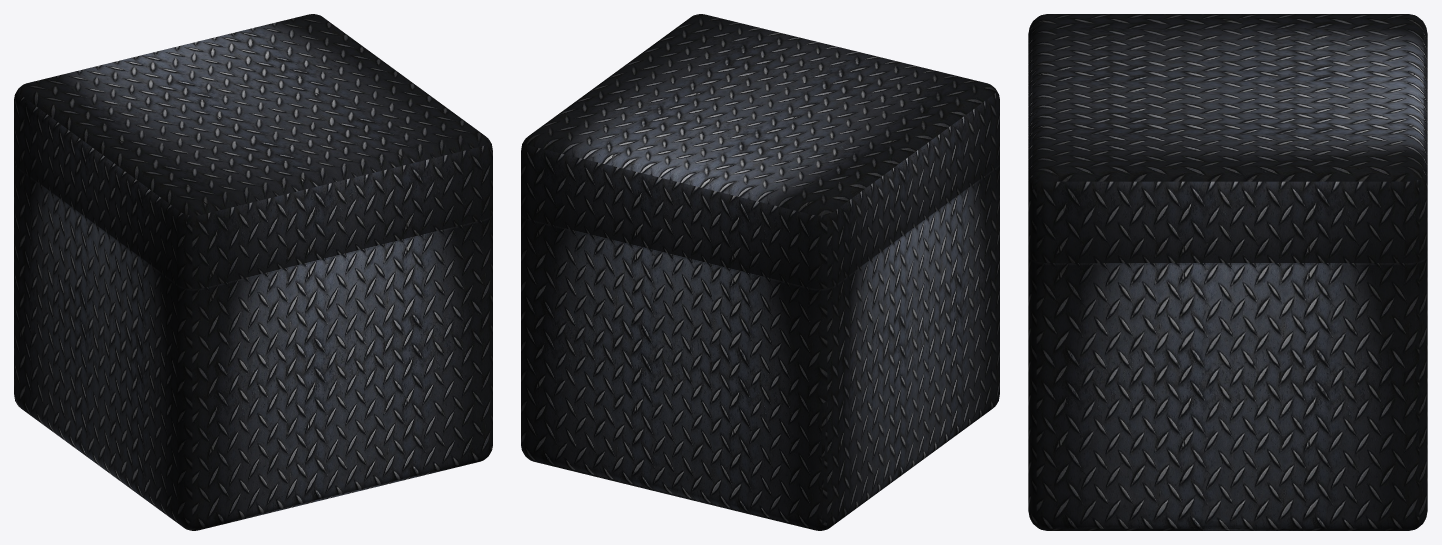
Rendered from kubs1anim2.fbx.
The picture shows the model from 3 angles, left to right: view 1: azimuth 30°, elevation 25°; view 2: azimuth 150°, elevation 25°; view 3: azimuth 270°, elevation 25°; orthographic projection. The views are drawn at different scales.
Visible parts, largest first — view 1: Pieces_25, Pieces_11, Pieces_24, Pieces_8, Pieces_12, Pieces_19, Pieces_6, Pieces_23, Pieces_18, Pieces_20, Pieces_10, Pieces_9 (+6 smaller); view 2: Pieces_16, Pieces_19, Pieces_20, Pieces_17, Pieces_6, Pieces_25, Pieces_18, Pieces_23, Pieces_3, Pieces_24, Pieces_12, Pieces_21 (+6 smaller); view 3: Pieces_6, Pieces_14, Pieces_8, Pieces_19, Pieces_13, Pieces_7, Pieces_24, Pieces_15, Pieces_5, Pieces_16, Pieces_11, Pieces_22 (+3 smaller).
Part boxes in pixels (x1,y1,x2,y2): Pieces_25: [87, 156, 384, 392]; Pieces_11: [273, 335, 492, 501]; Pieces_24: [78, 138, 380, 311]; Pieces_8: [353, 165, 492, 413]; Pieces_12: [126, 340, 315, 530]; Pieces_19: [14, 45, 347, 152]; Pieces_6: [239, 29, 492, 200]; Pieces_23: [76, 253, 165, 514]; Pieces_18: [14, 129, 107, 270]; Pieces_20: [14, 264, 57, 415]; Pieces_10: [47, 256, 95, 450]; Pieces_9: [28, 258, 83, 428]; Pieces_16: [521, 145, 679, 432]; Pieces_19: [664, 54, 899, 309]; Pieces_20: [640, 322, 876, 530]; Pieces_17: [593, 301, 845, 427]; Pieces_6: [550, 14, 804, 135]; Pieces_25: [906, 81, 999, 297]; Pieces_18: [768, 171, 926, 374]; Pieces_23: [890, 238, 980, 483]; Pieces_3: [642, 123, 754, 364]; Pieces_24: [792, 39, 979, 180]; Pieces_12: [945, 266, 999, 418]; Pieces_21: [542, 423, 675, 496]; Pieces_6: [1028, 109, 1364, 298]; Pieces_14: [1231, 139, 1427, 422]; Pieces_8: [1028, 197, 1193, 492]; Pieces_19: [1081, 14, 1427, 107]; Pieces_13: [1152, 387, 1340, 527]; Pieces_7: [1060, 328, 1244, 509]; Pieces_24: [1028, 14, 1246, 128]; Pieces_15: [1270, 394, 1427, 530]; Pieces_5: [1028, 196, 1288, 365]; Pieces_16: [1359, 108, 1427, 468]; Pieces_11: [1028, 463, 1204, 530]; Pieces_22: [1334, 109, 1427, 176].
Size of the model in its own units: 200 by 200 by 200.
Materials: 1 (1 with a texture image).
